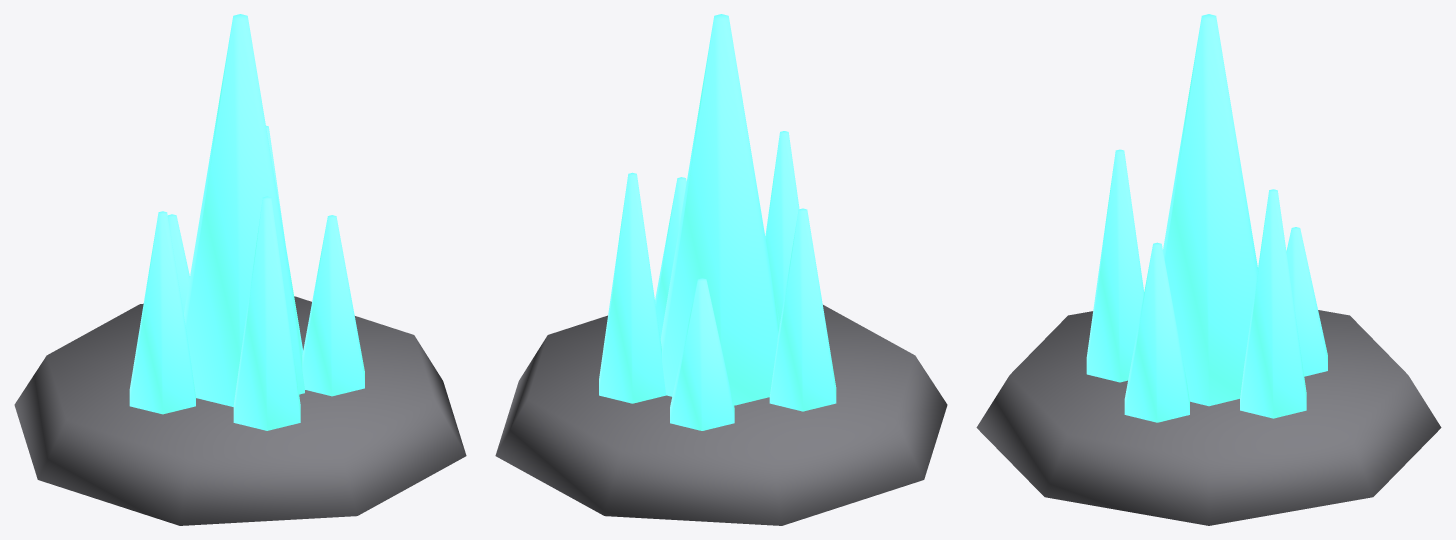
3 views of the same model, side by side, from view 1: azimuth 30°, elevation 25°; view 2: azimuth 150°, elevation 25°; view 3: azimuth 270°, elevation 25° (orthographic).
Visible parts, largest first — view 1: GeneratedObject3D; view 2: GeneratedObject3D; view 3: GeneratedObject3D.
Part boxes in pixels (x1=…): GeneratedObject3D: x1=14, y1=14, x2=466, y2=525; GeneratedObject3D: x1=495, y1=14, x2=947, y2=525; GeneratedObject3D: x1=976, y1=14, x2=1441, y2=525.
Bounding box in the file's own units: 2.8 × 2.73 × 2.8.
